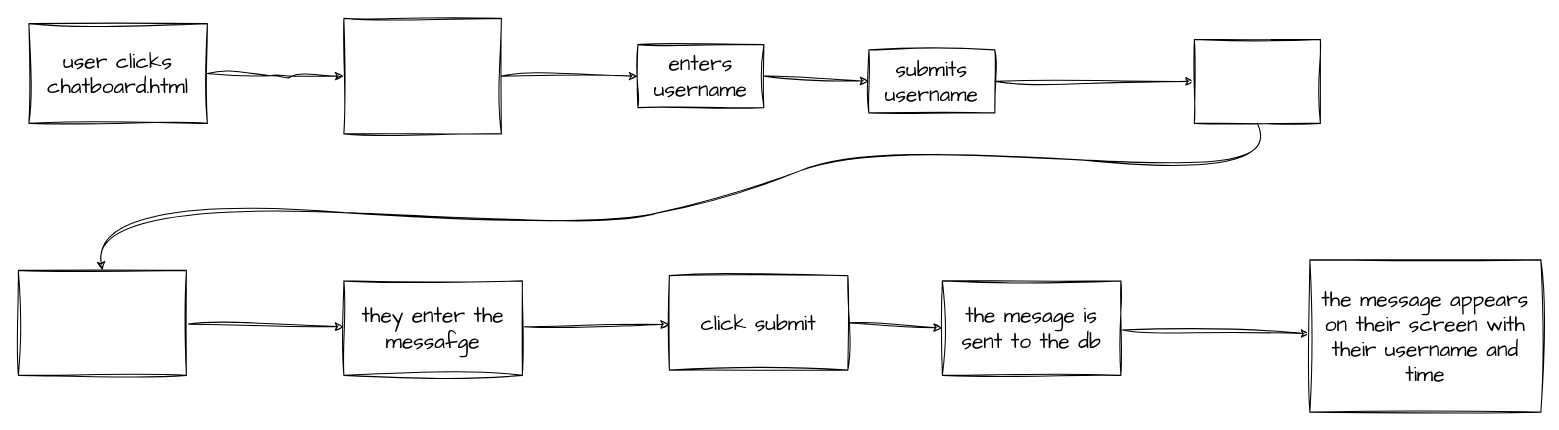
Some shapes in this 1559 by 430 pixel diagram are drawn without their labels. The shapes that lost their labels are listed below. From the top down, each one's box as (x1, y1, x2, y2) in pixels, then its label:
(343, 17, 501, 134): all of the messages are fetched from db
(1193, 38, 1320, 123): username stored in cookie
(17, 269, 186, 375): user clicks on text input
